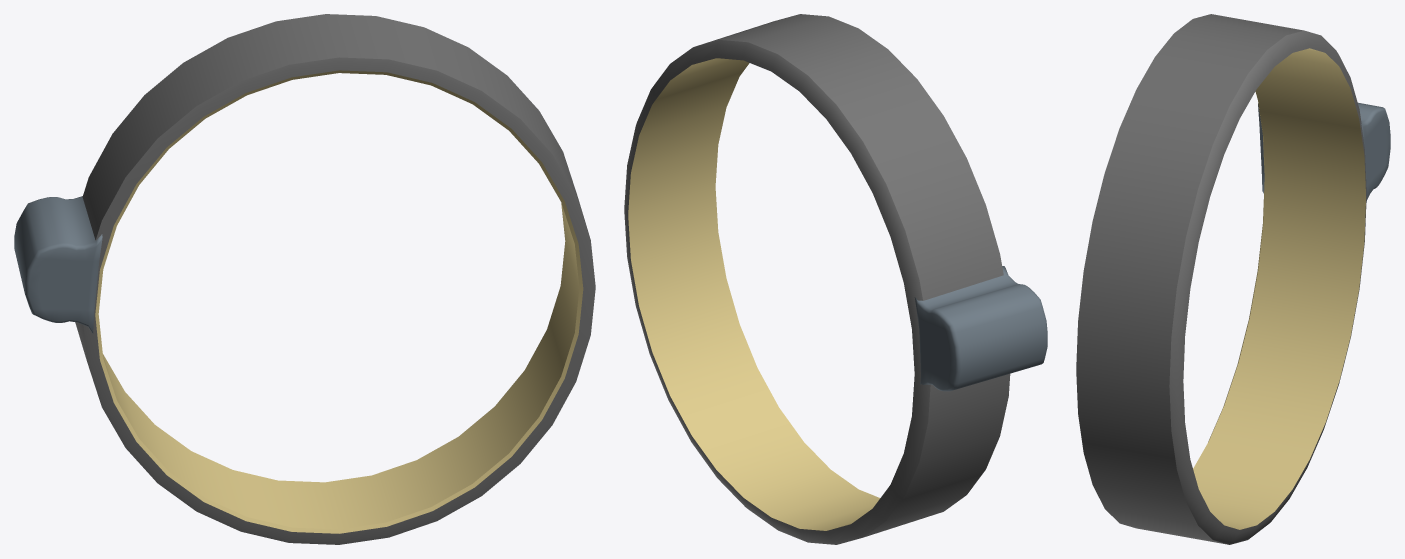
Rendered from GPSCollarRolledOut.fbx.
3 renders of one model, left to right at view 1: azimuth 30°, elevation 25°; view 2: azimuth 150°, elevation 25°; view 3: azimuth 270°, elevation 25°, orthographic. The views are drawn at different scales.
Visible parts, largest first — view 1: GPSCollarInsideRoll.001, GPSCollarTop; view 2: GPSCollarInsideRoll.001, GPSCollarTop; view 3: GPSCollarInsideRoll.001, GPSCollarTop.
Boxes of the visible parts, x1=… form: GPSCollarInsideRoll.001: x1=75, y1=14, x2=595, y2=544; GPSCollarTop: x1=14, y1=196, x2=102, y2=333; GPSCollarInsideRoll.001: x1=624, y1=14, x2=1010, y2=544; GPSCollarTop: x1=914, y1=266, x2=1047, y2=391; GPSCollarInsideRoll.001: x1=1076, y1=14, x2=1366, y2=544; GPSCollarTop: x1=1258, y1=102, x2=1390, y2=202.
Bounding box in the file's own units: 118 × 111 × 66.84.
